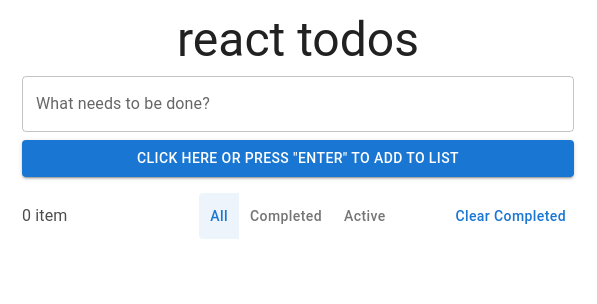
Test: App › should add task to list when add button is clicked
The width and height of the screenshot is (597, 304).
Step 1. Type "New Task" into the field labelled "What needs to be done?" → (298, 104), box [22,76,574,132]
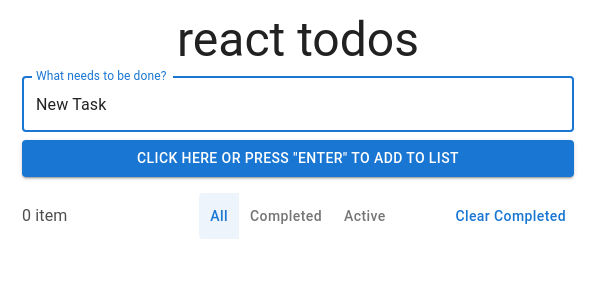
Step 2. Click the button with aria-label "submitButton" → (298, 158), box [22,140,574,176]
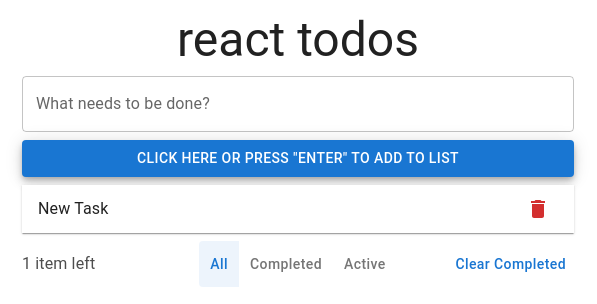
Expected: the text "New Task" is shown, [38,198,108,218]
